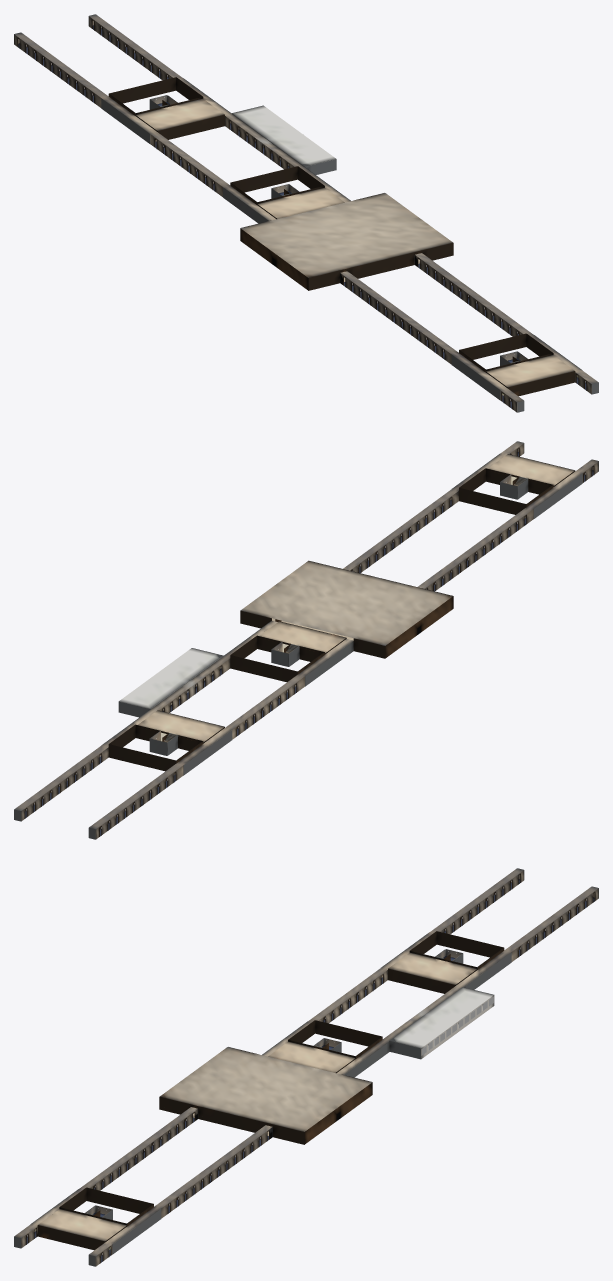
Rendered from deck4.glb.
The picture shows the model from 3 angles, top to bottom: view 1: azimuth 30°, elevation 25°; view 2: azimuth 150°, elevation 25°; view 3: azimuth 330°, elevation 25°; orthographic projection.
Parts seen in each view (by area): view 1: kr_decke, kr_holz, kr_wand, kr_teppich_flur; view 2: kr_decke, kr_holz, kr_wand, kr_teppich_flur; view 3: kr_decke, kr_holz, kr_wand, kr_teppich_flur.
Part boxes in pixels (left/top/right/bottom): kr_decke: left=14, top=14, right=598, bottom=402; kr_holz: left=17, top=19, right=586, bottom=408; kr_wand: left=14, top=14, right=598, bottom=412; kr_teppich_flur: left=18, top=25, right=591, bottom=408; kr_decke: left=14, top=441, right=598, bottom=829; kr_holz: left=25, top=447, right=594, bottom=836; kr_wand: left=14, top=441, right=598, bottom=839; kr_teppich_flur: left=21, top=452, right=593, bottom=836; kr_decke: left=14, top=868, right=598, bottom=1256; kr_holz: left=26, top=873, right=595, bottom=1262; kr_wand: left=14, top=868, right=598, bottom=1266; kr_teppich_flur: left=26, top=879, right=594, bottom=1262.
Size of the model in its own units: 34.44 by 3 by 207.
